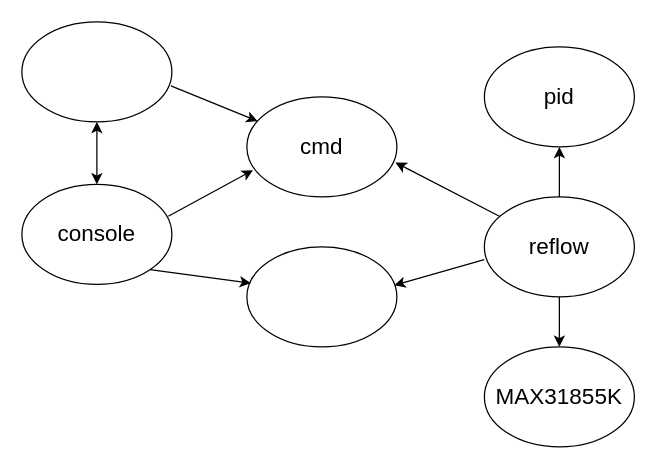
Some shapes in this 656 by 469 pixel diagram are drawn without their labels. The centre of each missing label's shape, as x and y in pixels:
"active" belongs at point (321, 296).
"uart" belongs at point (96, 71).
